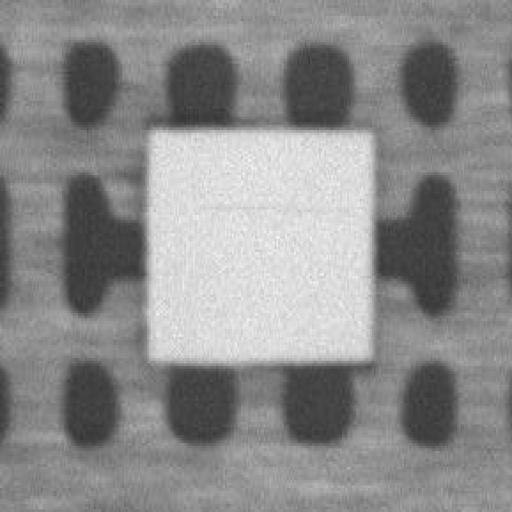DIE_CRACK: (200, 194, 328, 212)
